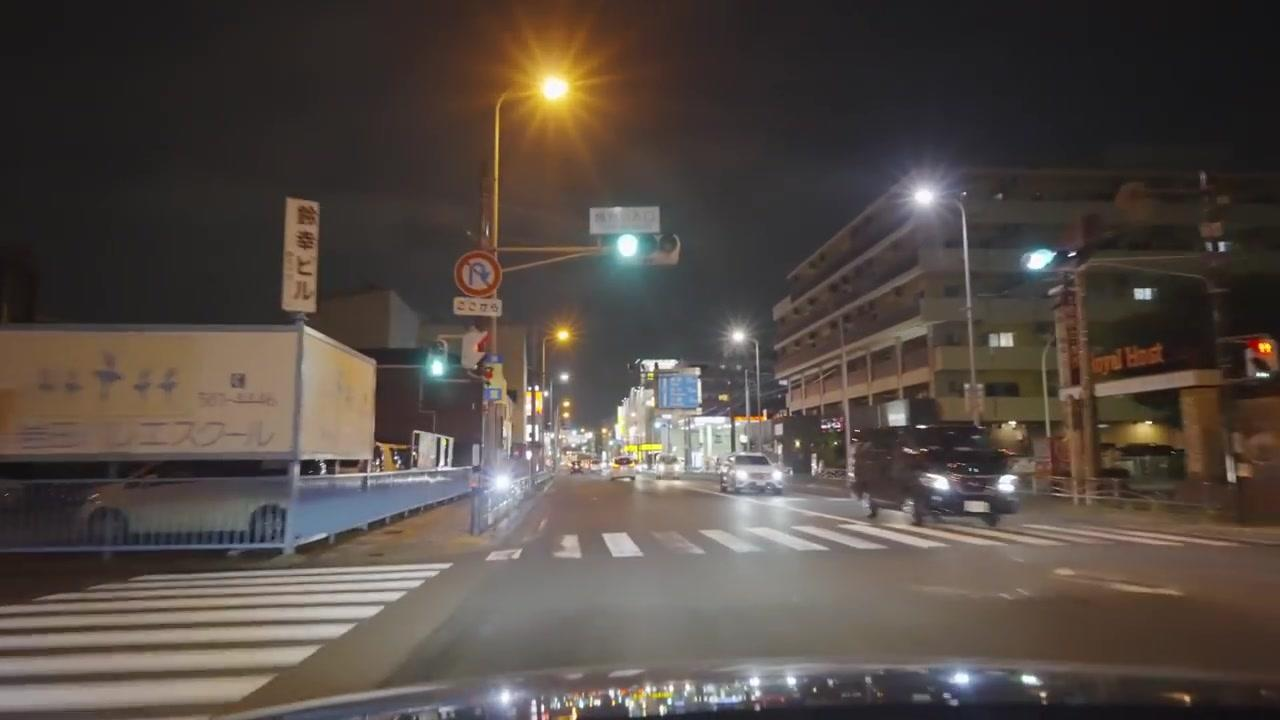car: (850, 421, 1023, 526), (717, 453, 787, 495), (610, 456, 637, 479)
traffic light: (608, 232, 667, 263), (1245, 336, 1277, 378), (426, 348, 446, 381)
truck: (0, 321, 413, 557)
